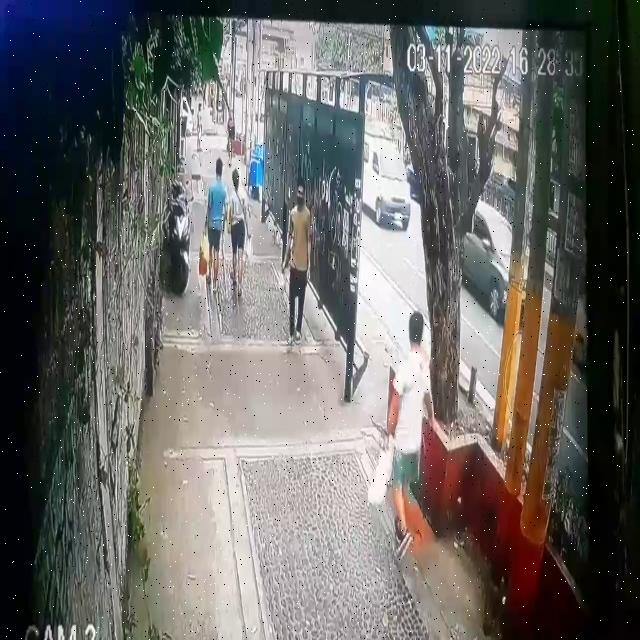human: (368, 311, 432, 555), (200, 158, 227, 293), (228, 169, 252, 296)
